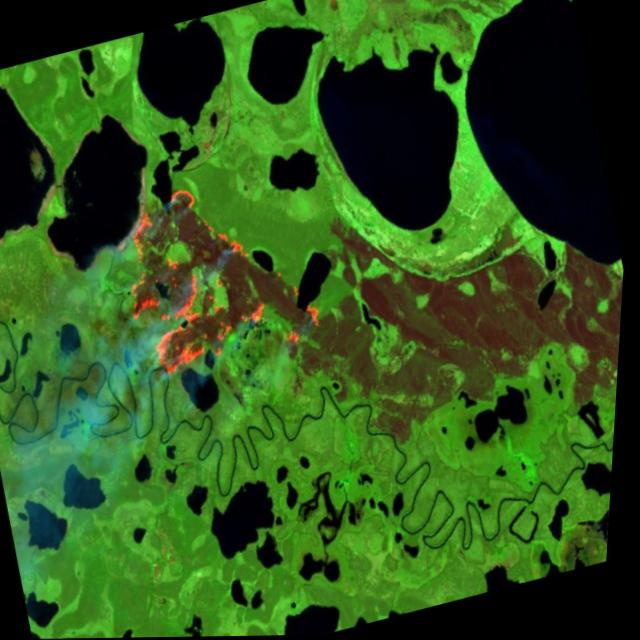fire: (96, 152, 343, 400)
